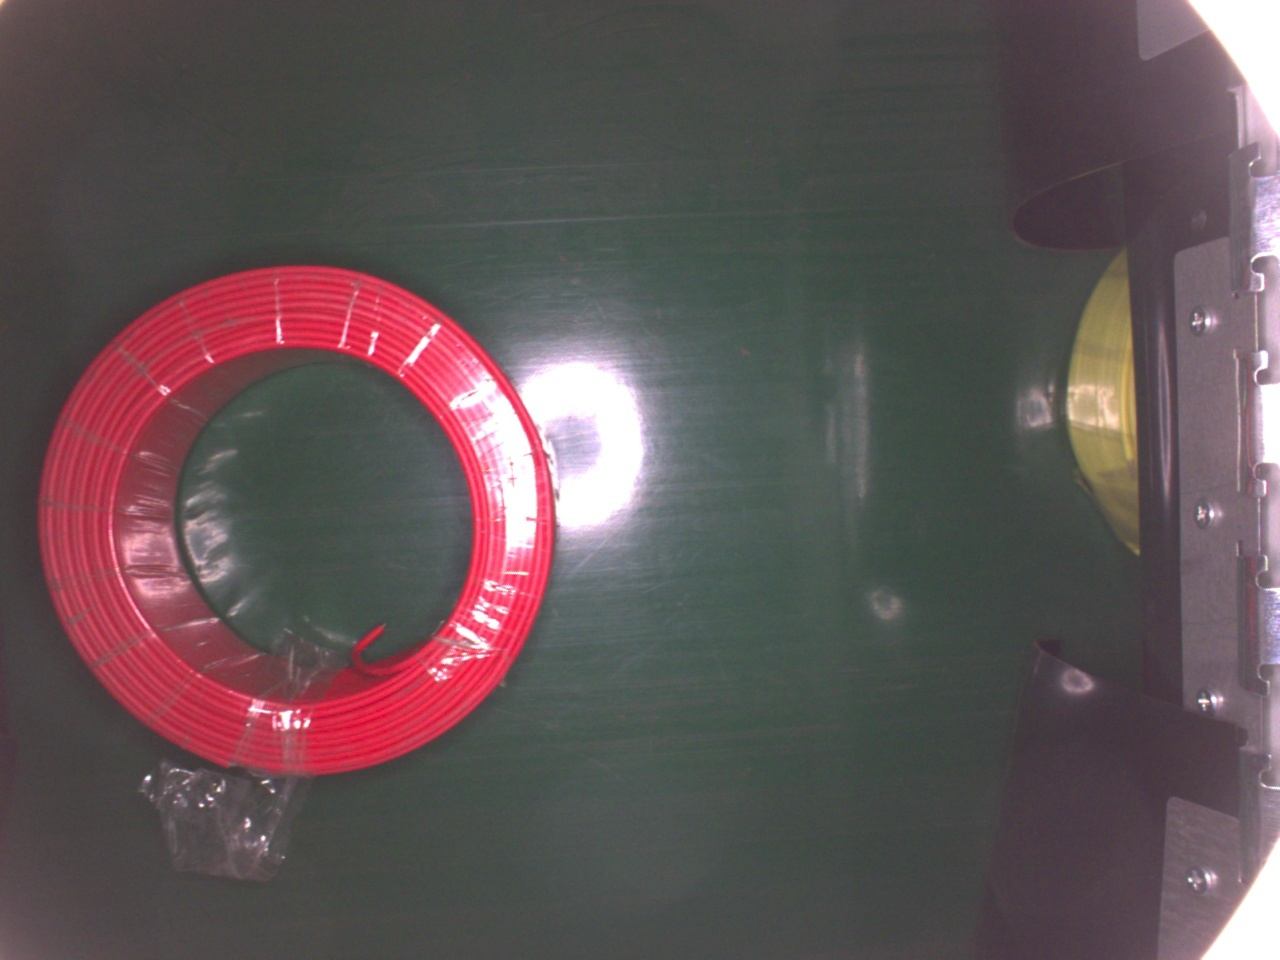red: (36, 259, 557, 785)
